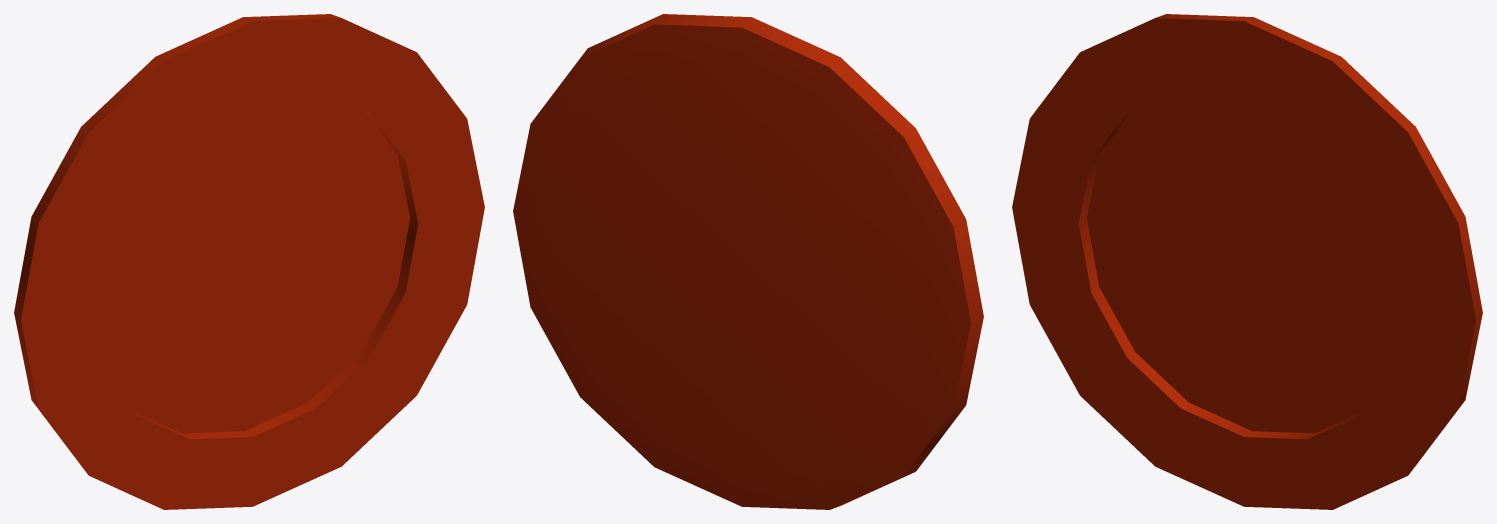
Rendered from sCap_04.FBX.
3 views of the same model, side by side, from view 1: azimuth 30°, elevation 25°; view 2: azimuth 150°, elevation 25°; view 3: azimuth 330°, elevation 25° (orthographic).
Visible parts, largest first — view 1: Caps_up1_004_Low003; view 2: Caps_up1_004_Low003; view 3: Caps_up1_004_Low003.
Boxes of the visible parts, left/top/right/bottom form: Caps_up1_004_Low003: left=14, top=14, right=484, bottom=509; Caps_up1_004_Low003: left=513, top=14, right=983, bottom=509; Caps_up1_004_Low003: left=1012, top=14, right=1482, bottom=509.
Bounding box in the file's own units: 19 × 19 × 0.8269.
